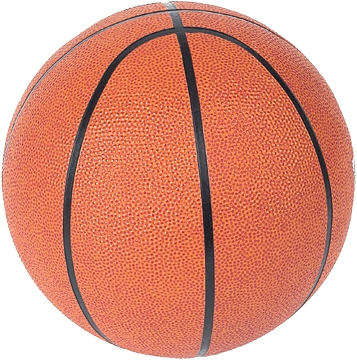basketball: (4, 1, 354, 355)
